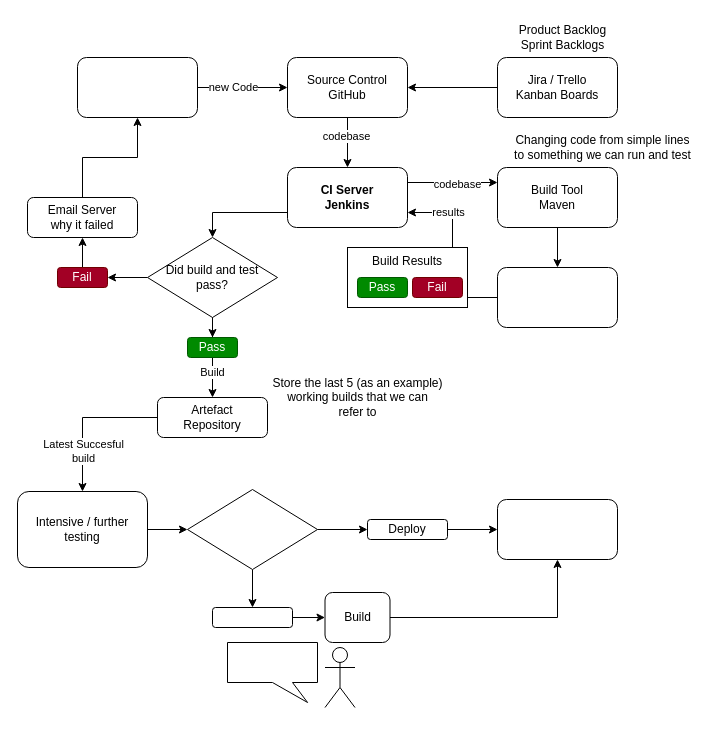
This 725x745 diagram has some shape labels left out. Each missing label, with the centre of its shape:
"delivery" goes at pixel 252 617.
"Deployment (Cloud Hosted and running on Kubernetes)" goes at pixel 557 529.
"Deployment / Delivery" goes at pixel 252 529.
"Developers" goes at pixel 137 87.
"Human Checker" goes at pixel 339 677.
"Test JUnit" goes at pixel 557 297.
"Yep, build looks good!" goes at pixel 272 672.
